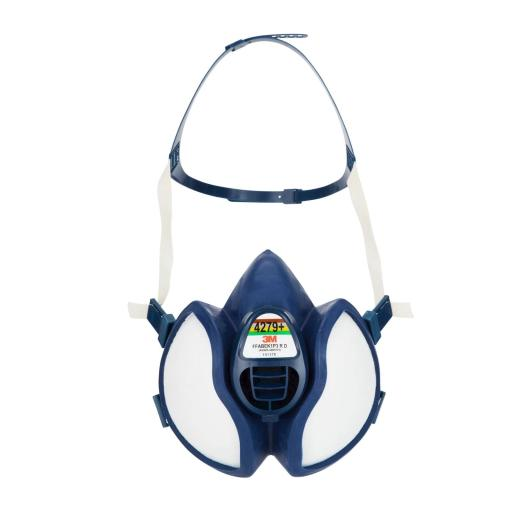mask: (109, 237, 409, 490)
